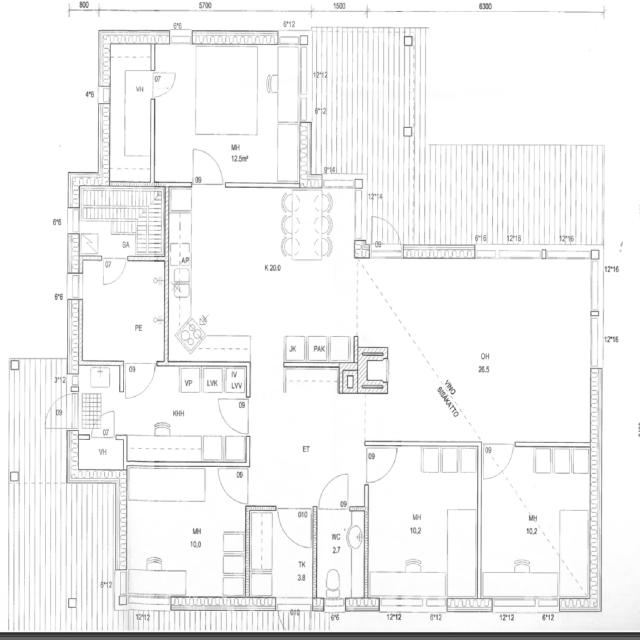door: (277, 506, 311, 550), (371, 209, 401, 258), (37, 394, 78, 428), (364, 447, 400, 483), (216, 398, 250, 434), (216, 468, 250, 504), (193, 148, 223, 188), (126, 361, 156, 400), (318, 472, 348, 511), (484, 440, 513, 480), (92, 408, 115, 441), (103, 255, 125, 287), (150, 73, 176, 97)
